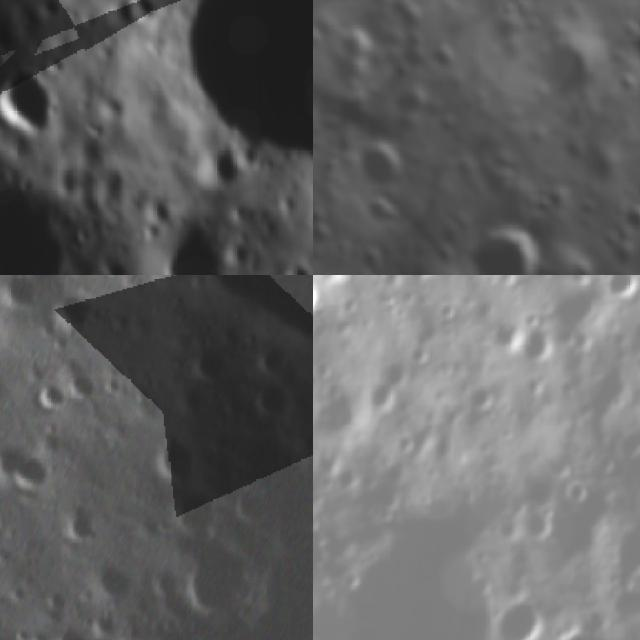crater: (162, 0, 313, 149), (180, 275, 313, 366), (514, 16, 614, 119), (0, 162, 80, 275), (450, 206, 561, 275), (138, 204, 242, 275), (563, 351, 640, 438), (178, 545, 256, 623), (340, 127, 419, 203), (0, 48, 54, 144), (0, 432, 63, 512), (313, 381, 371, 454), (198, 129, 254, 198), (483, 592, 559, 640), (77, 558, 143, 611), (0, 275, 60, 330), (168, 486, 227, 540), (153, 428, 205, 486), (176, 342, 236, 392), (42, 290, 102, 339), (248, 379, 298, 428), (56, 499, 104, 550), (516, 320, 564, 368), (381, 253, 483, 275), (251, 340, 297, 383), (614, 5, 640, 79), (24, 376, 71, 416), (61, 366, 104, 409), (458, 378, 500, 422), (424, 38, 465, 80), (141, 563, 181, 605), (609, 193, 640, 242), (112, 0, 156, 34), (36, 615, 95, 640), (522, 189, 561, 226), (384, 275, 455, 295), (595, 275, 639, 304), (550, 620, 610, 640), (98, 90, 131, 124), (266, 258, 313, 275), (313, 275, 329, 324), (0, 45, 12, 72)
